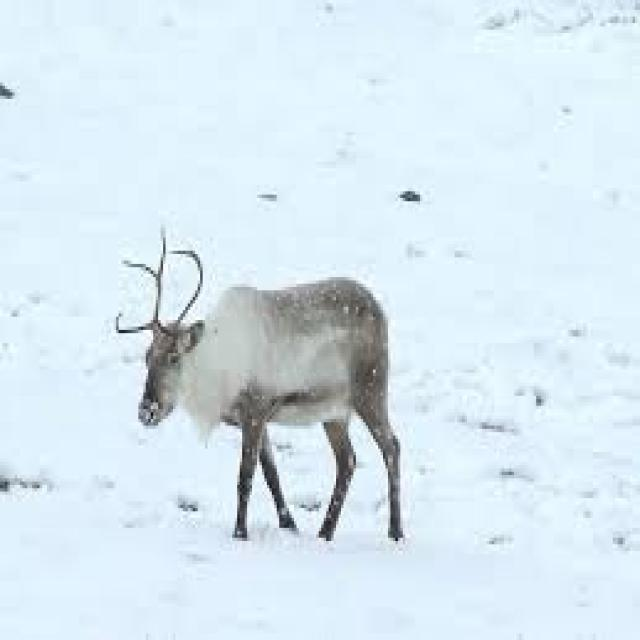Reindeer: (101, 220, 414, 553)
